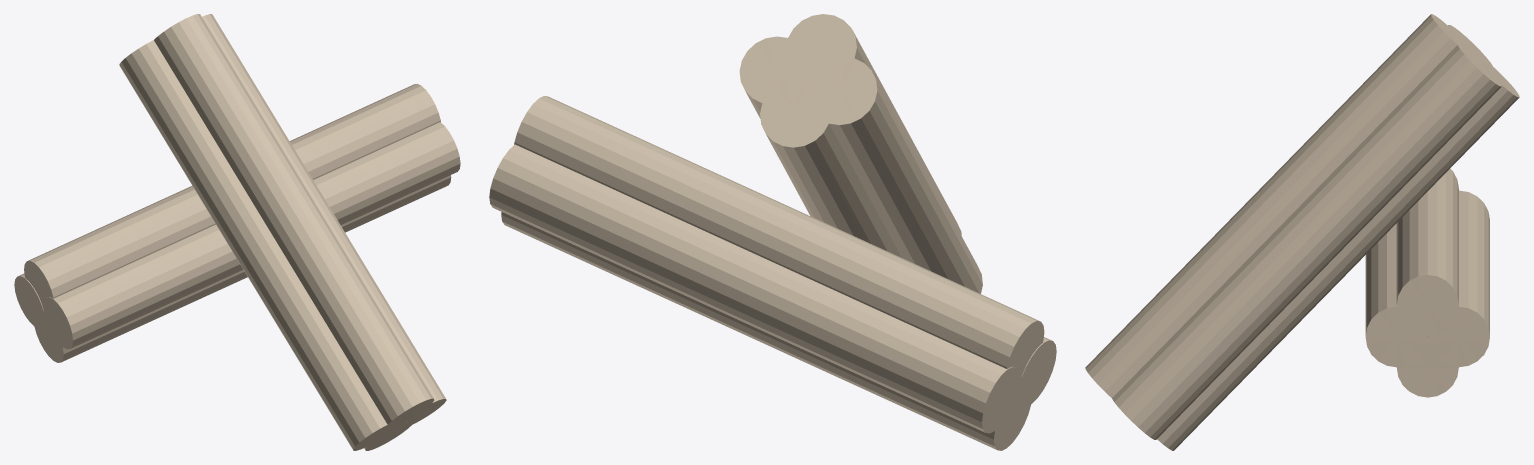
The model's file is Centrioles.glb.
The picture shows the model from 3 angles, left to right: view 1: azimuth 30°, elevation 25°; view 2: azimuth 150°, elevation 25°; view 3: azimuth 270°, elevation 25°; orthographic projection. The views are drawn at different scales.
Visible parts, largest first — view 1: Mesh_Mesh_head_geo.001_lambert2SG.001; view 2: Mesh_Mesh_head_geo.001_lambert2SG.001; view 3: Mesh_Mesh_head_geo.001_lambert2SG.001.
Boxes of the visible parts, box(x1,y1,x2,y2) form: Mesh_Mesh_head_geo.001_lambert2SG.001: box(14, 14, 460, 450); Mesh_Mesh_head_geo.001_lambert2SG.001: box(489, 14, 1056, 450); Mesh_Mesh_head_geo.001_lambert2SG.001: box(1085, 14, 1519, 450).
Bounding box in the file's own units: 8.23 × 6.97 × 6.97.
